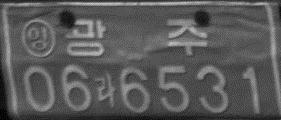0: (22, 65, 55, 113)
1: (236, 64, 269, 115)
3: (196, 63, 231, 114)
5: (156, 64, 189, 112)
6: (118, 66, 150, 115), (59, 64, 91, 112)
광주_D: (64, 17, 207, 56)
라: (93, 71, 117, 107)
영: (20, 18, 55, 59)
